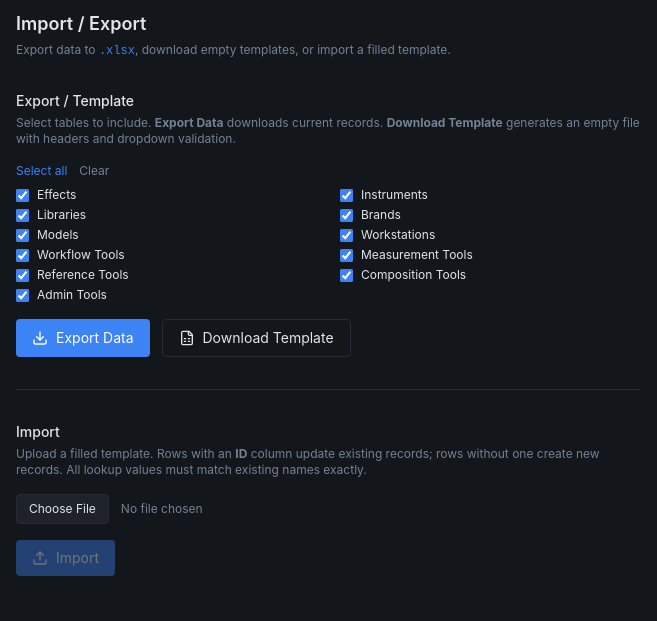
Scenario: ImportExportPage — export › shows error message when export request fails
Click the button "Export Data": (83, 338) [16,319,150,357]
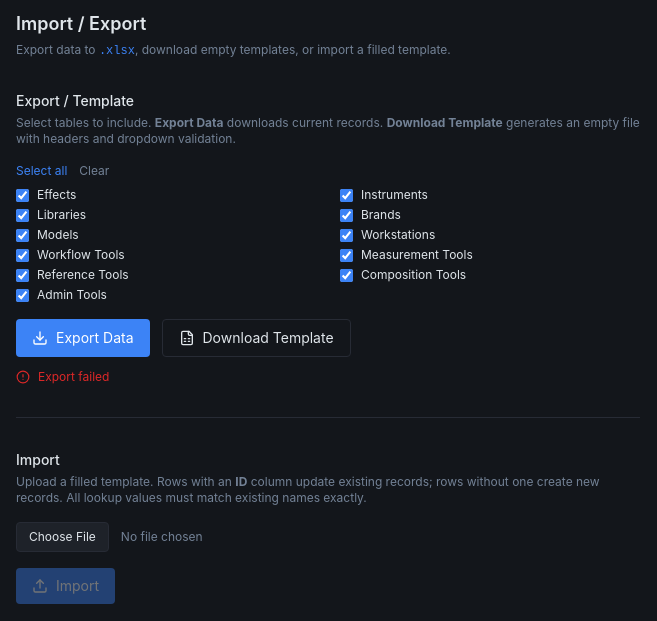
expect the text "Export failed" is shown: met, box [16,369,110,384]
